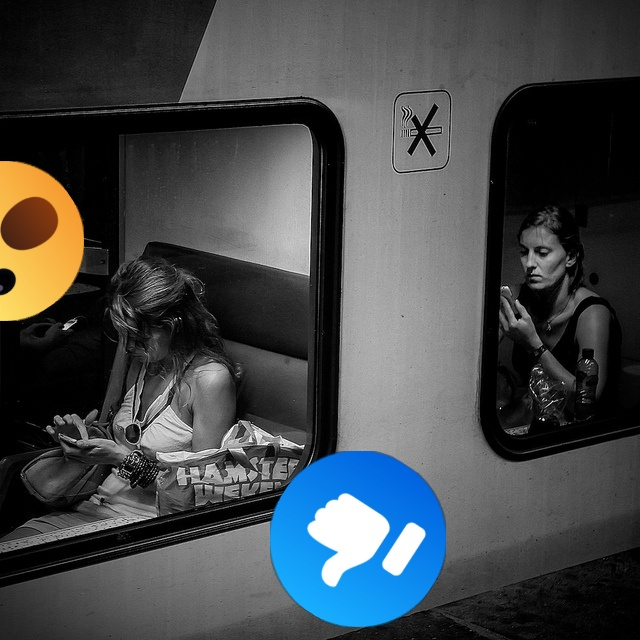like: (270, 451, 446, 627)
wow: (0, 161, 84, 321)
